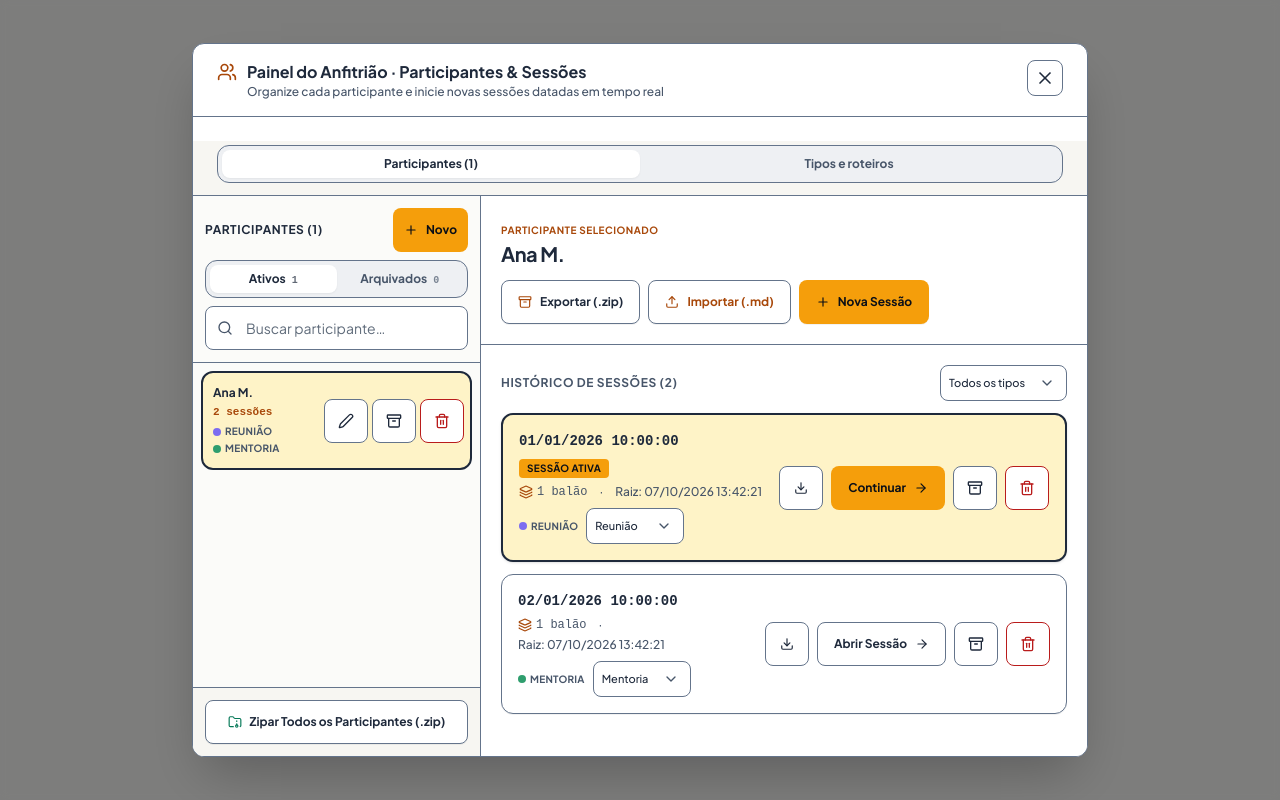
AdminClientManager catalog tab › adding a kind persists it to the catalog
Click the tab "Tipos e roteiros" at {"x": 849, "y": 164}, box x1=640 y1=150 x2=1058 y2=178
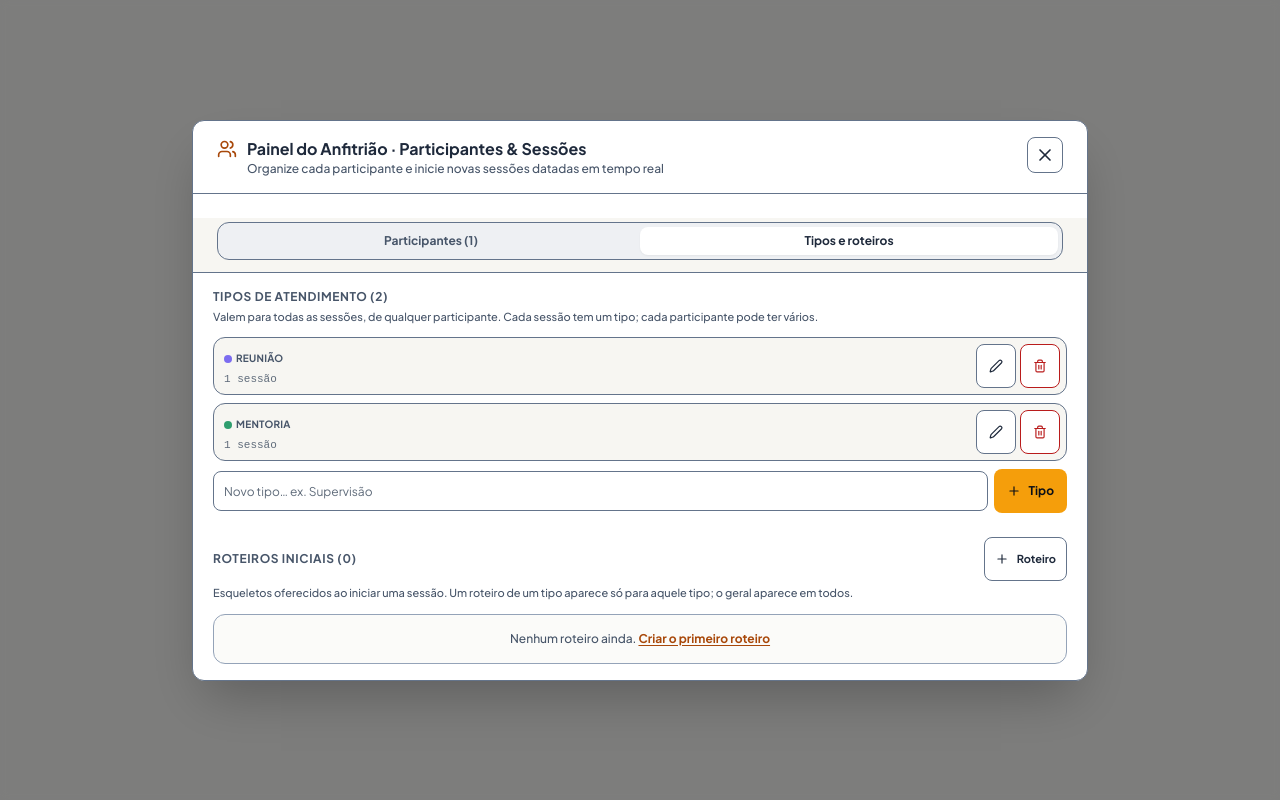
Type "Supervisão" into the field named "Nome do novo tipo" at {"x": 600, "y": 491}, box x1=213 y1=471 x2=988 y2=511
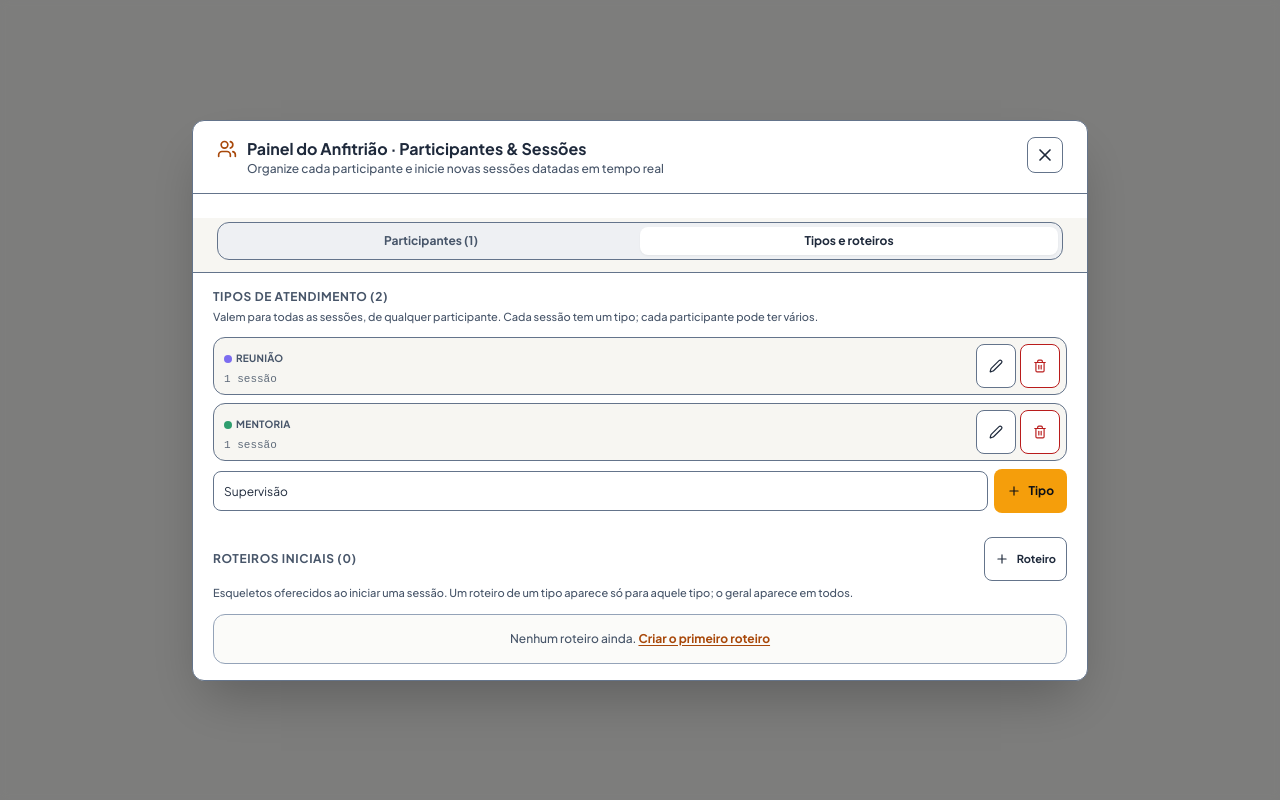
Click the button "Tipo" at {"x": 1030, "y": 491}, box x1=994 y1=469 x2=1067 y2=513
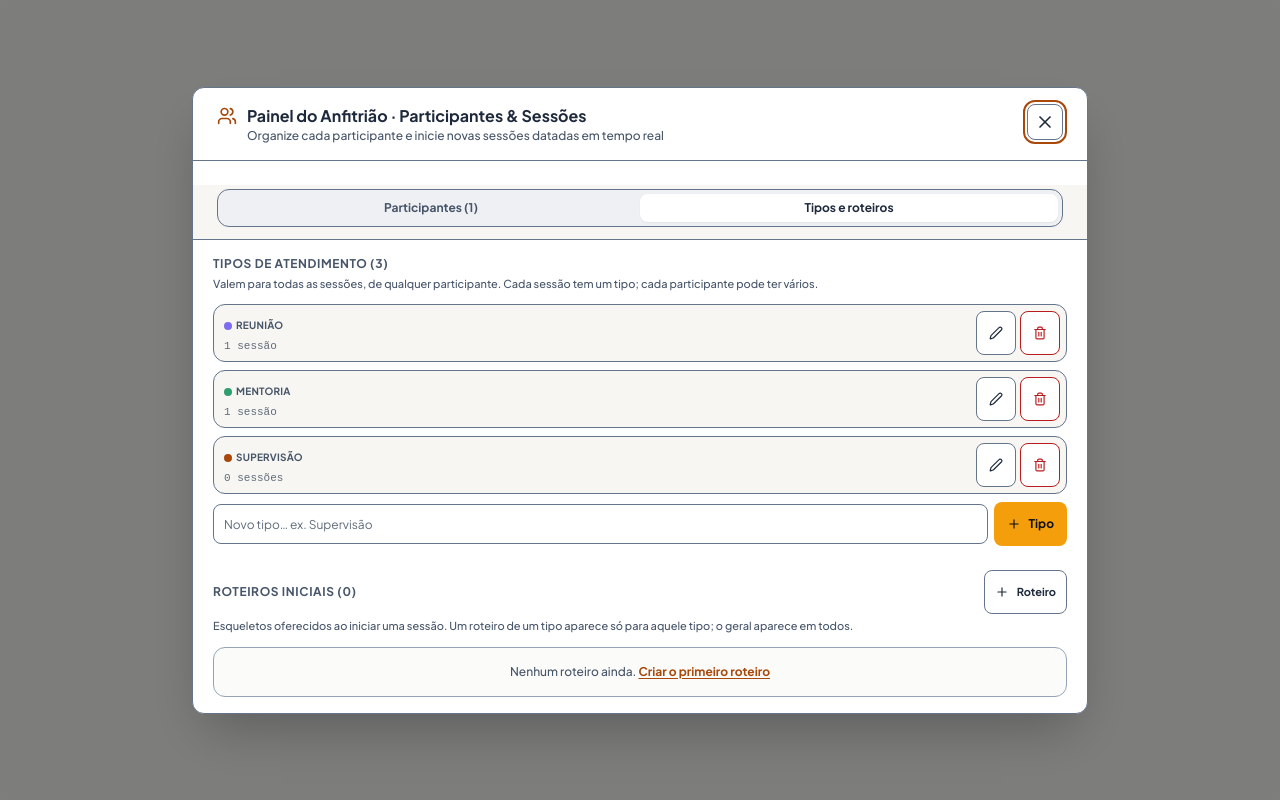
Expected: the element showing "Supervisão" is shown, x1=224 y1=450 x2=303 y2=465
